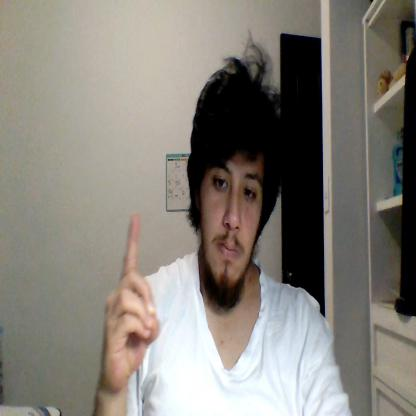D: (102, 212, 160, 392)
